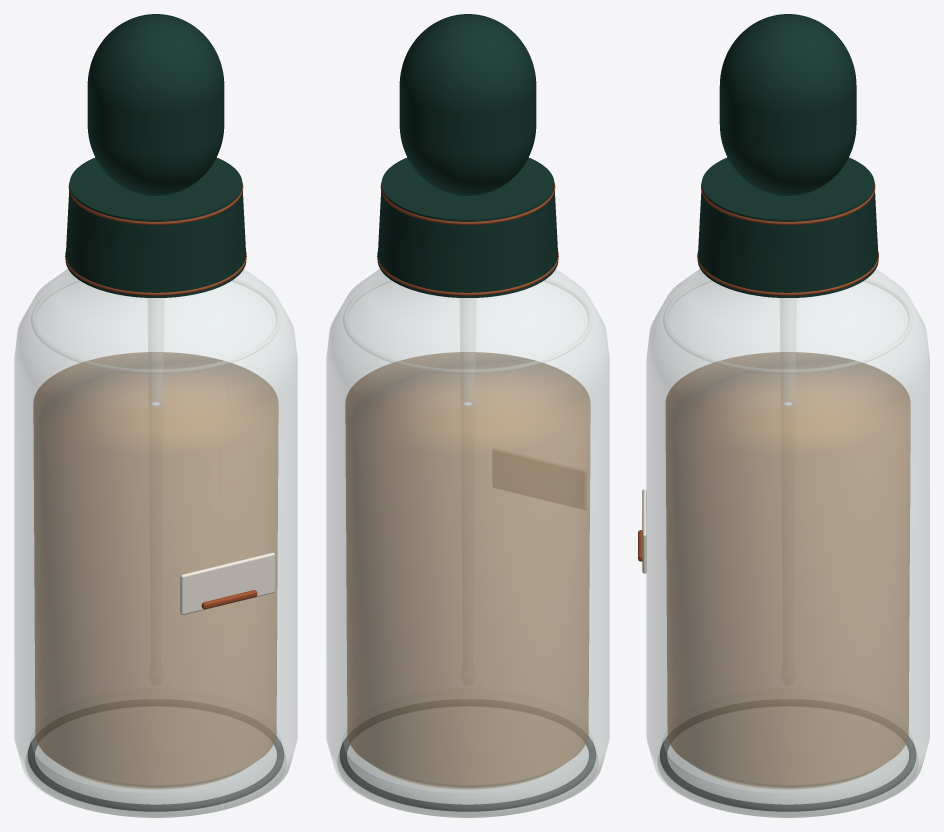
Rendered from gt-dropper-030.glb.
3 views of the same model, side by side, from view 1: azimuth 30°, elevation 25°; view 2: azimuth 150°, elevation 25°; view 3: azimuth 270°, elevation 25° (orthographic).
Visible parts, largest first — view 1: Dropper_Weighted_Glass_Bottle, Dropper_Liquid_Volume, Dropper_Elastomer_Bulb, Dropper_Metal_Collar, Dropper_Glass_Base, Configurable_Label_Plate, Dropper_Weighted_Heel, Dropper_Shoulder_Highlight, Dropper_Glass_Pipette, Dropper_Collar_Keyline_Top, Dropper_Collar_Keyline_Lower; view 2: Dropper_Weighted_Glass_Bottle, Dropper_Liquid_Volume, Dropper_Elastomer_Bulb, Dropper_Metal_Collar, Dropper_Glass_Base, Configurable_Label_Plate, Dropper_Weighted_Heel, Dropper_Shoulder_Highlight, Dropper_Glass_Pipette, Dropper_Collar_Keyline_Top, Dropper_Collar_Keyline_Lower; view 3: Dropper_Weighted_Glass_Bottle, Dropper_Liquid_Volume, Dropper_Elastomer_Bulb, Dropper_Metal_Collar, Dropper_Glass_Base, Dropper_Weighted_Heel, Dropper_Shoulder_Highlight, Dropper_Glass_Pipette, Dropper_Collar_Keyline_Top, Dropper_Collar_Keyline_Lower.
Part boxes in pixels (<box>): Dropper_Weighted_Glass_Bottle: <box>14,269,297,817</box>; Dropper_Liquid_Volume: <box>33,352,278,789</box>; Dropper_Elastomer_Bulb: <box>87,14,224,195</box>; Dropper_Metal_Collar: <box>65,157,246,297</box>; Dropper_Glass_Base: <box>25,729,286,817</box>; Configurable_Label_Plate: <box>180,552,274,614</box>; Dropper_Weighted_Heel: <box>28,736,283,811</box>; Dropper_Shoulder_Highlight: <box>31,278,280,373</box>; Dropper_Glass_Pipette: <box>148,298,163,406</box>; Dropper_Collar_Keyline_Top: <box>68,182,243,224</box>; Dropper_Collar_Keyline_Lower: <box>65,251,246,295</box>; Dropper_Weighted_Glass_Bottle: <box>326,269,609,817</box>; Dropper_Liquid_Volume: <box>345,352,590,789</box>; Dropper_Elastomer_Bulb: <box>399,14,536,195</box>; Dropper_Metal_Collar: <box>377,157,558,297</box>; Dropper_Glass_Base: <box>337,729,598,817</box>; Configurable_Label_Plate: <box>493,448,586,509</box>; Dropper_Weighted_Heel: <box>340,736,595,811</box>; Dropper_Shoulder_Highlight: <box>343,278,592,373</box>; Dropper_Glass_Pipette: <box>460,298,475,406</box>; Dropper_Collar_Keyline_Top: <box>380,182,555,224</box>; Dropper_Collar_Keyline_Lower: <box>377,251,558,295</box>; Dropper_Weighted_Glass_Bottle: <box>646,269,929,817</box>; Dropper_Liquid_Volume: <box>666,352,910,789</box>; Dropper_Elastomer_Bulb: <box>719,14,856,195</box>; Dropper_Metal_Collar: <box>697,157,878,297</box>; Dropper_Glass_Base: <box>658,728,918,817</box>; Dropper_Weighted_Heel: <box>660,736,915,811</box>; Dropper_Shoulder_Highlight: <box>663,279,912,373</box>; Dropper_Glass_Pipette: <box>780,298,795,406</box>; Dropper_Collar_Keyline_Top: <box>701,183,875,224</box>; Dropper_Collar_Keyline_Lower: <box>697,252,878,295</box>.
Size of the model in its own units: 1.41 by 4.11 by 1.45.
